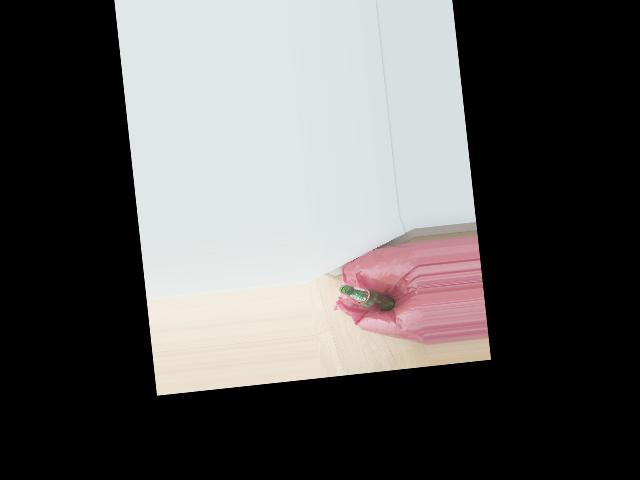beer: (339, 280, 395, 316)
